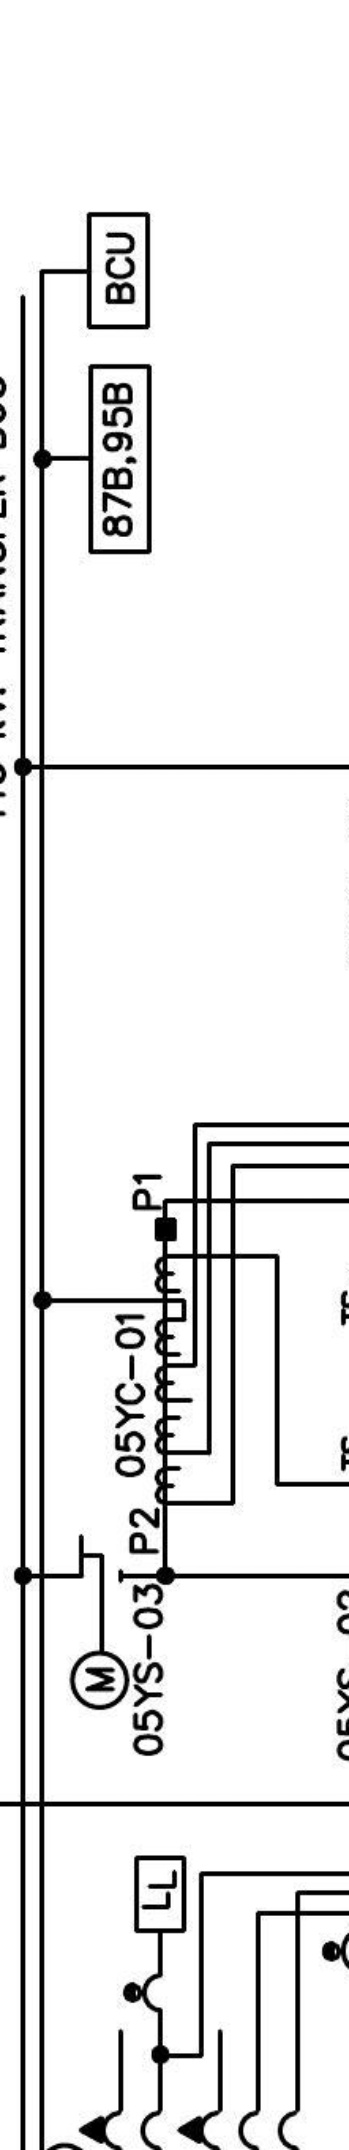115_1way_ds_w_motor: (67, 1533, 131, 1711)
BCU: (86, 210, 151, 330)
LL: (133, 1854, 188, 1935)
